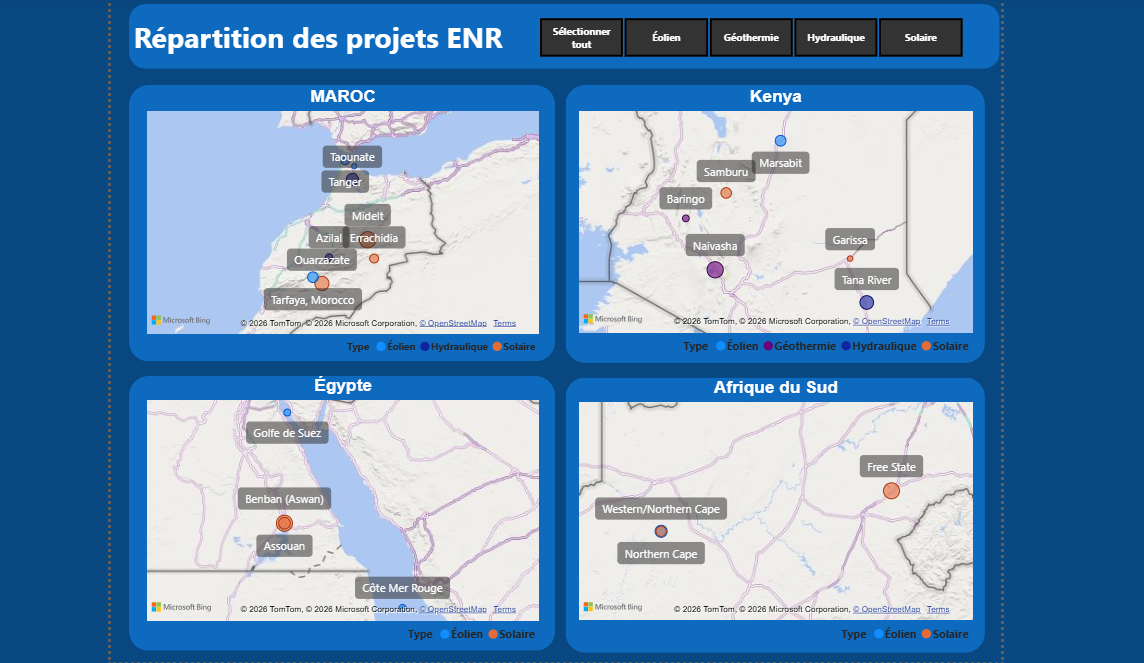

What the dashboard file says about the page in this screenshot:
{"tool":"powerbi","page":{"name":"Projets ENR","canvas":[960,720],"ordinal":2},"visuals":[{"type":"shape","box":[490,97.1,452.9,300],"z":0},{"type":"shape","title":"Profil pays — fiche détaillée","box":[20,10,940,70],"z":1000},{"type":"shape","box":[20,96.7,460,298.3],"z":2000},{"type":"shape","box":[20,411.7,460,296.7],"z":3000},{"type":"shape","box":[490,412.9,452.9,297.1],"z":4000},{"type":"map","title":"MAROC","fields":{"Series":["Projets ENR - Tous Pays.Type"],"Size":["Sum(Projets ENR - Tous Pays.Capacité (MW))"],"Category":["Projets ENR - Tous Pays.Localisation_corrigee"]},"box":[33.3,98.3,433.3,298.3],"z":5000},{"type":"map","fields":{"Category":["Projets ENR - Tous Pays.Localisation"],"Series":["Projets ENR - Tous Pays.Type"],"Size":["Sum(Projets ENR - Tous Pays.Capacité (MW))"]},"box":[500,98.3,435,298.3],"z":6000},{"type":"map","fields":{"Category":["Projets ENR - Tous Pays.Localisation"],"Series":["Projets ENR - Tous Pays.Type"],"Size":["Sum(Projets ENR - Tous Pays.Capacité (MW))"]},"box":[33.3,411.7,433.3,296.7],"z":7000},{"type":"map","fields":{"Category":["Projets ENR - Tous Pays.Localisation"],"Series":["Projets ENR - Tous Pays.Type"],"Size":["Sum(Projets ENR - Tous Pays.Capacité (MW))"]},"box":[500,413.3,435,295],"z":8000},{"type":"slicer","fields":{"Values":["Projets ENR - Tous Pays.Type"]},"box":[437.1,17.1,505.7,55.7],"z":9000}]}

Visuals, with their boxes on the page's 960x720 design canvas (x1, y1, x2, y2). These are canvas units, not pixel positions in the 1144x663 screenshot, which may show the page scaled, cropped or inside an application window:
shape: {"x1": 490, "y1": 97, "x2": 943, "y2": 397}
"Profil pays — fiche détaillée" shape: {"x1": 20, "y1": 10, "x2": 960, "y2": 80}
shape: {"x1": 20, "y1": 97, "x2": 480, "y2": 395}
shape: {"x1": 20, "y1": 412, "x2": 480, "y2": 708}
shape: {"x1": 490, "y1": 413, "x2": 943, "y2": 710}
"MAROC" map: {"x1": 33, "y1": 98, "x2": 467, "y2": 397}
map - Projets ENR - Tous Pays.Localisation x Projets ENR - Tous Pays.Type: {"x1": 500, "y1": 98, "x2": 935, "y2": 397}
map - Projets ENR - Tous Pays.Localisation x Projets ENR - Tous Pays.Type: {"x1": 33, "y1": 412, "x2": 467, "y2": 708}
map - Projets ENR - Tous Pays.Localisation x Projets ENR - Tous Pays.Type: {"x1": 500, "y1": 413, "x2": 935, "y2": 708}
slicer - Projets ENR - Tous Pays.Type: {"x1": 437, "y1": 17, "x2": 943, "y2": 73}
